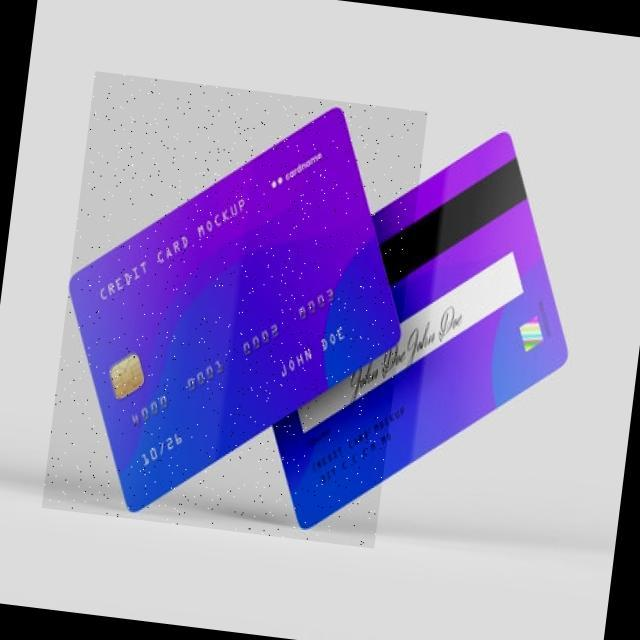payment_card: (70, 106, 400, 513), (265, 127, 569, 530)
